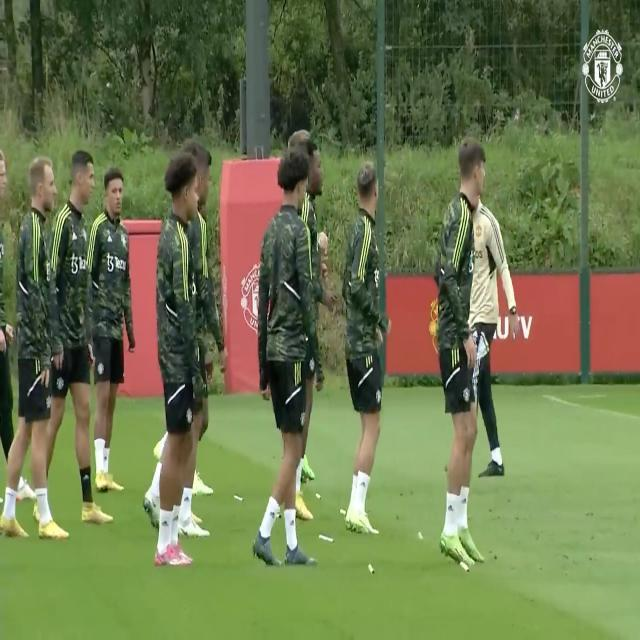Adidas: (447, 500, 456, 514), (161, 518, 170, 530), (289, 518, 297, 530), (268, 508, 276, 520), (182, 494, 190, 506)
